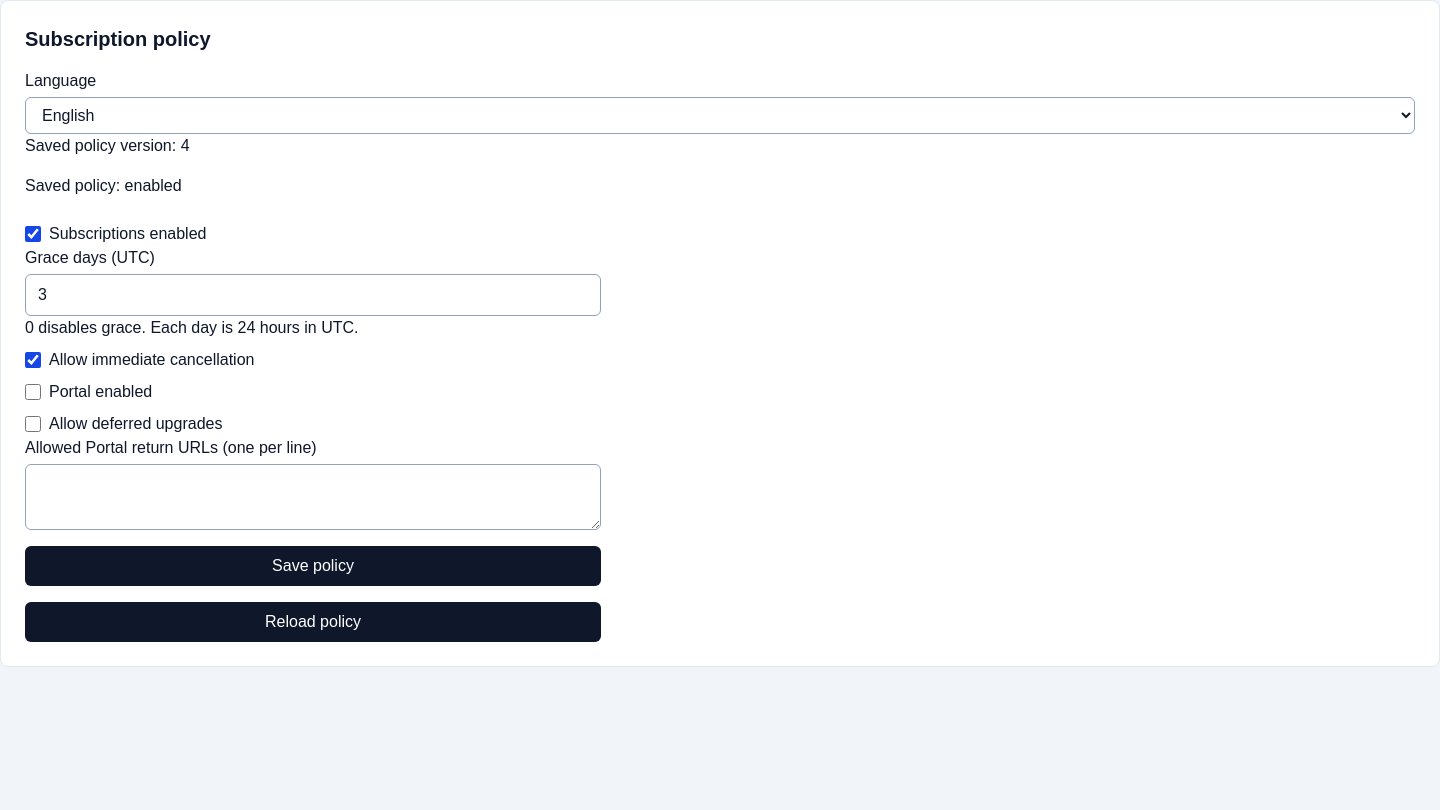
Test: does not expose the stale policy editor during an explicit conflict reload
Click the button "Save policy" at point(313, 566), box 25,546 -> 601,586
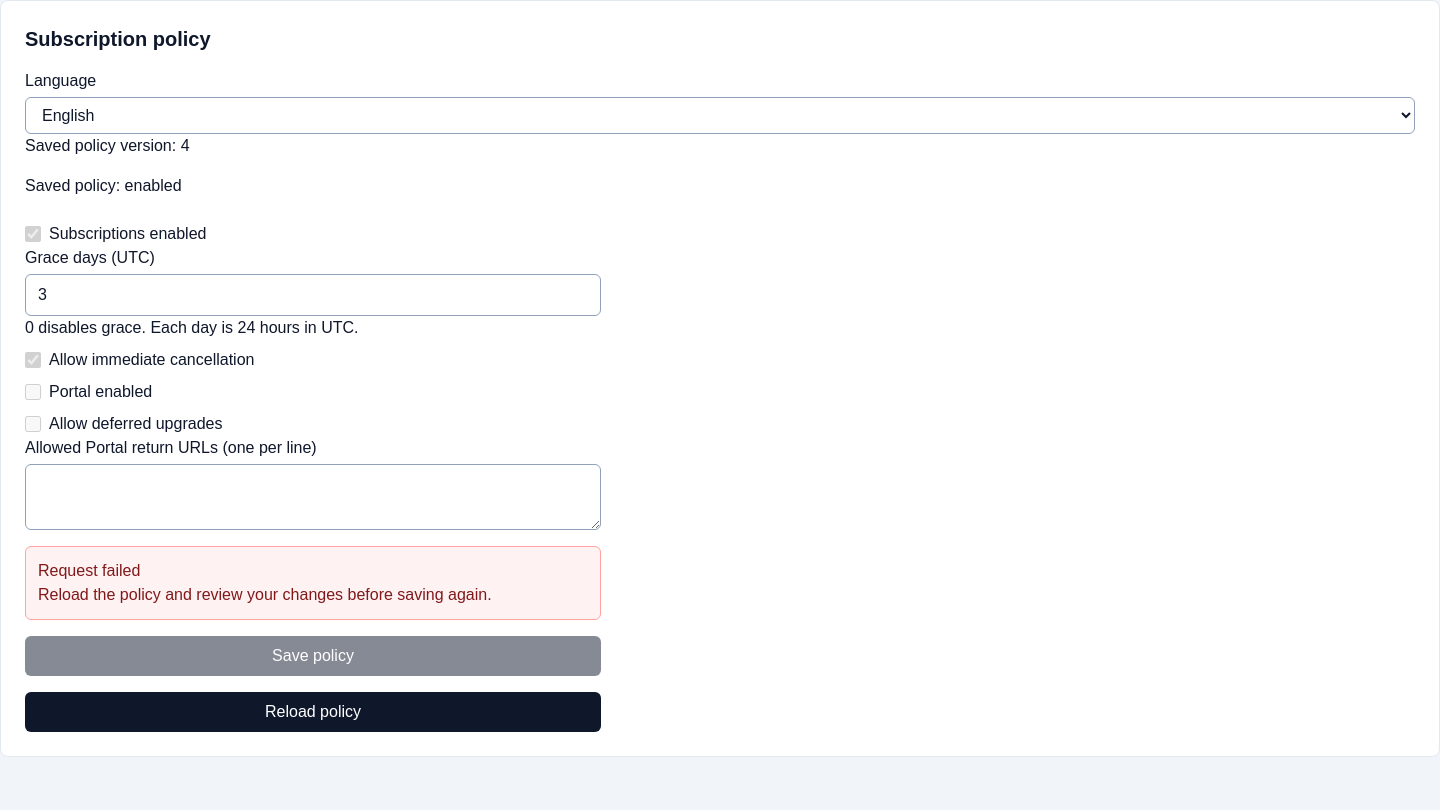
Result: the message "Request failed Reload the policy and review your changes before saving again." is shown at 25,546 -> 601,620
Click the button "Reload policy" at point(313, 712), box 25,692 -> 601,732
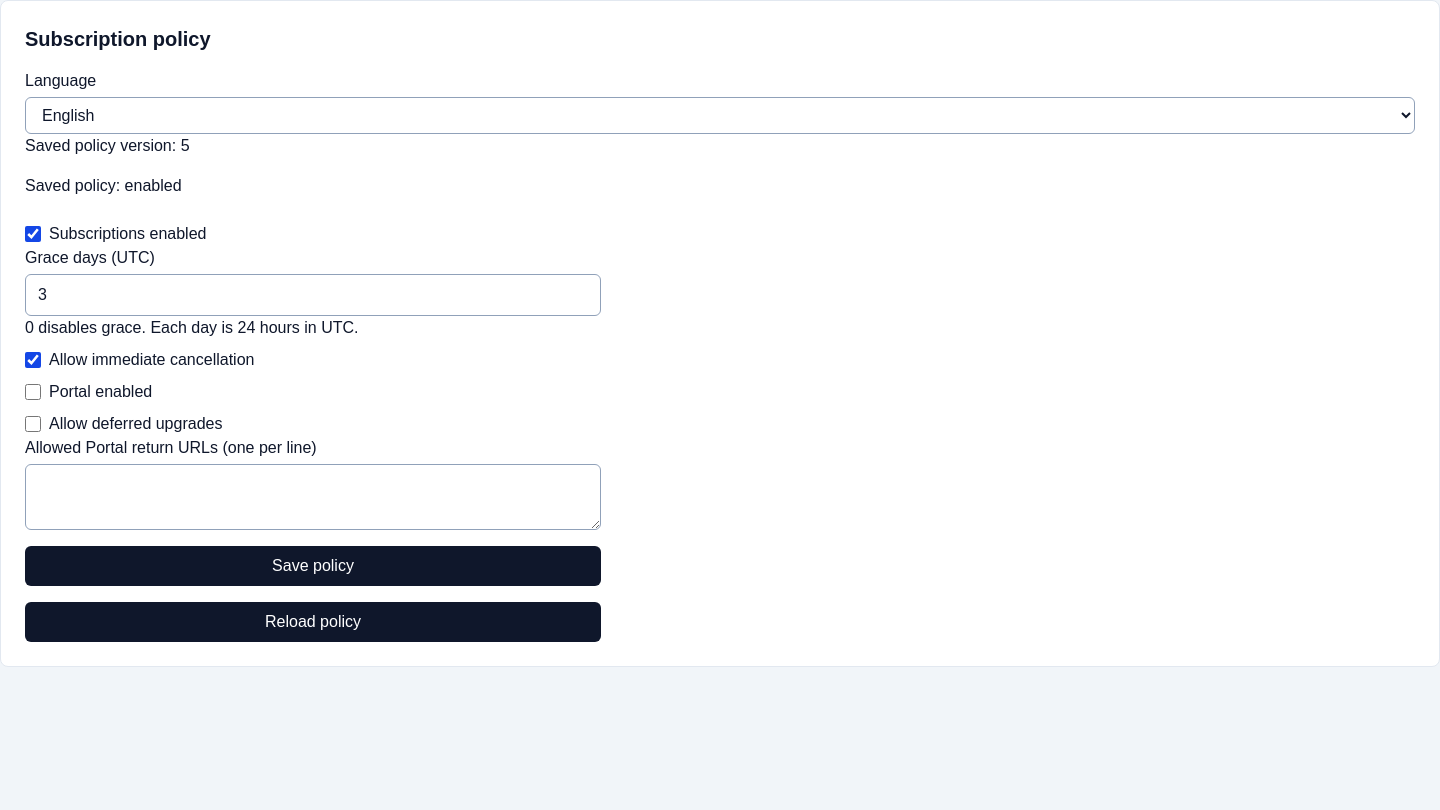
Result: the text "Saved policy version: 5" is shown at 25,137 -> 190,154
